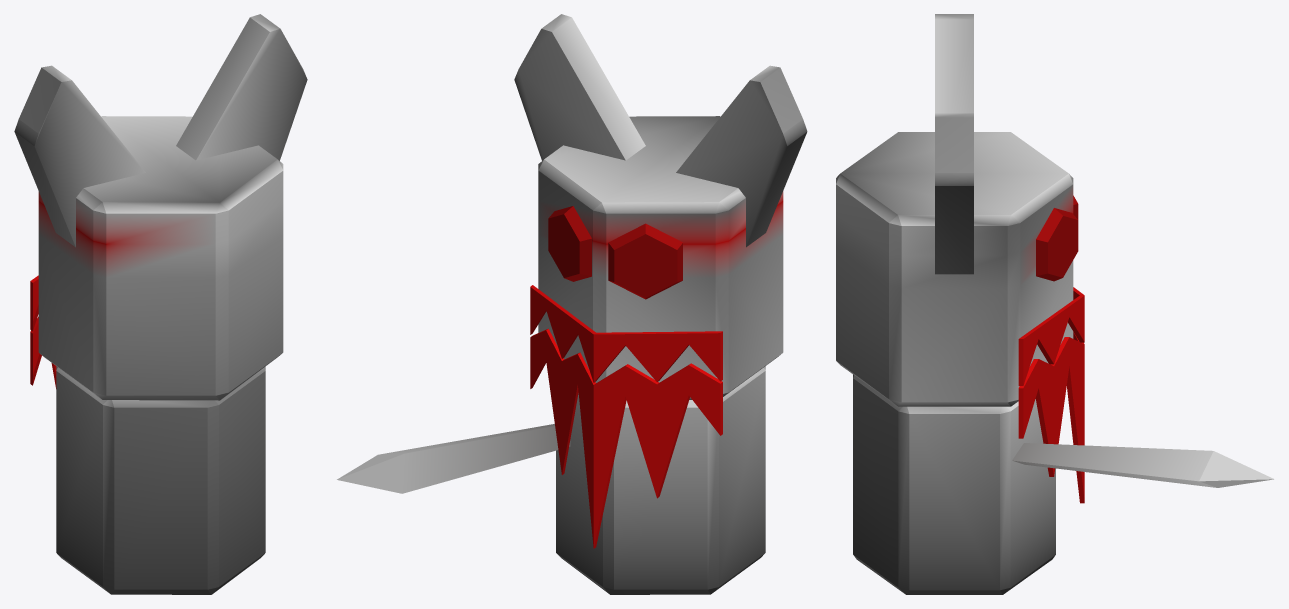
The model's file is Builder_Red.FBX.
3 renders of one model, left to right at view 1: azimuth 30°, elevation 25°; view 2: azimuth 150°, elevation 25°; view 3: azimuth 270°, elevation 25°, orthographic. The views are drawn at different scales.
Parts seen in each view (by area): view 1: Builder_Red; view 2: Builder_Red; view 3: Builder_Red.
Boxes of the visible parts, x1,y1,x2,y2 form: Builder_Red: (14,14,307,594); Builder_Red: (337,14,807,594); Builder_Red: (836,14,1274,594).
Bounding box in the file's own units: 156 × 258 × 208.
